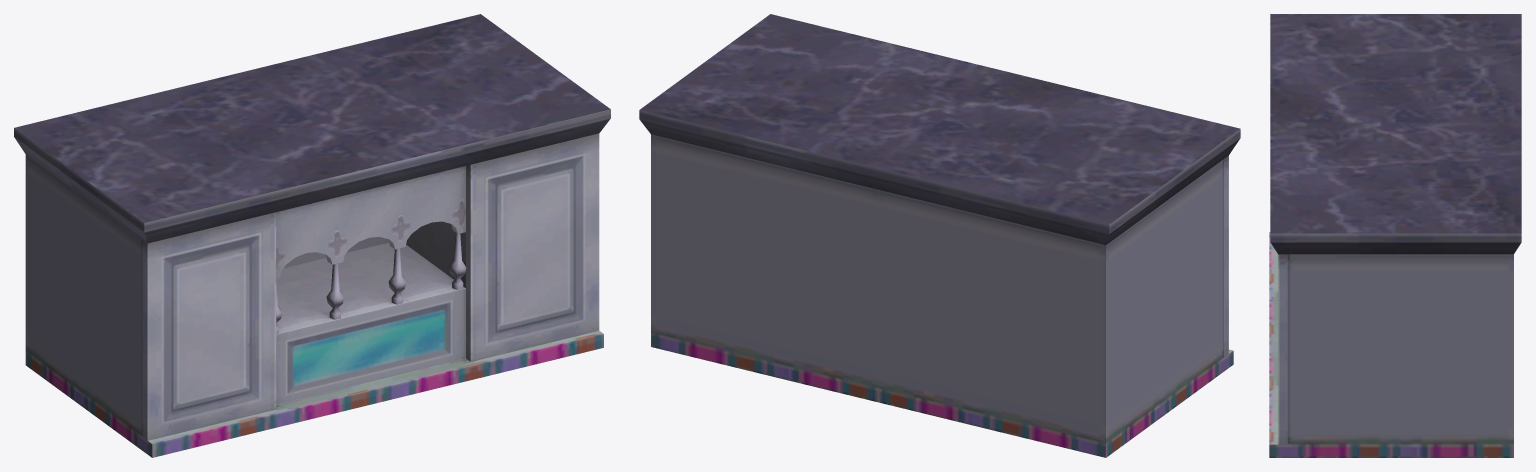
File: furni_0200620_01.FBX
The picture shows the model from 3 angles, left to right: view 1: azimuth 30°, elevation 25°; view 2: azimuth 150°, elevation 25°; view 3: azimuth 270°, elevation 25°; orthographic projection. The views are drawn at different scales.
Parts seen in each view (by area): view 1: furni_0200620_01; view 2: furni_0200620_01; view 3: furni_0200620_01.
Part boxes in pixels (box(x1,y1,x2,y2)): furni_0200620_01: box(14, 14, 610, 457); furni_0200620_01: box(639, 14, 1240, 457); furni_0200620_01: box(1269, 14, 1521, 457).
Size of the model in its own units: 165 by 79.79 by 80.04.
Materials: 1 (1 with a texture image).
